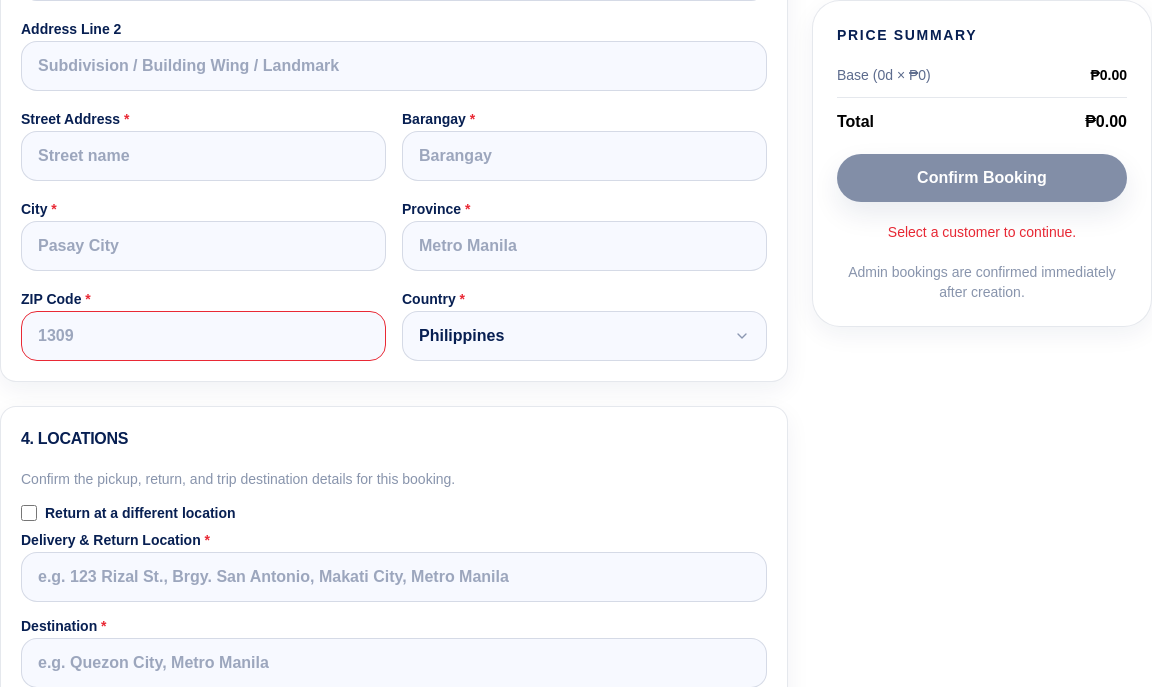
it: AdminBookingsCreate › validates self-drive address fields and uses the full country dataset
(page scrolled)
In the field labelled "ZIP Code *": (204, 336) 21,311 -> 386,361, type "123"
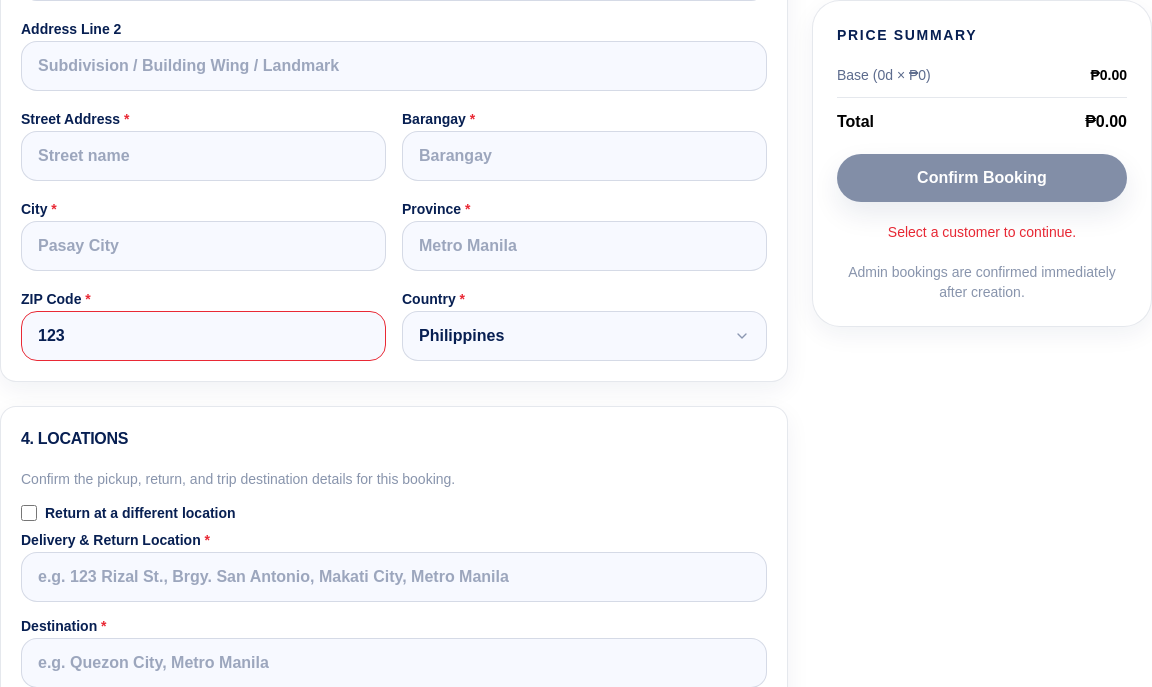
Click the button with aria-label "Country": (462, 336) 402,311 -> 767,361
(page scrolled)
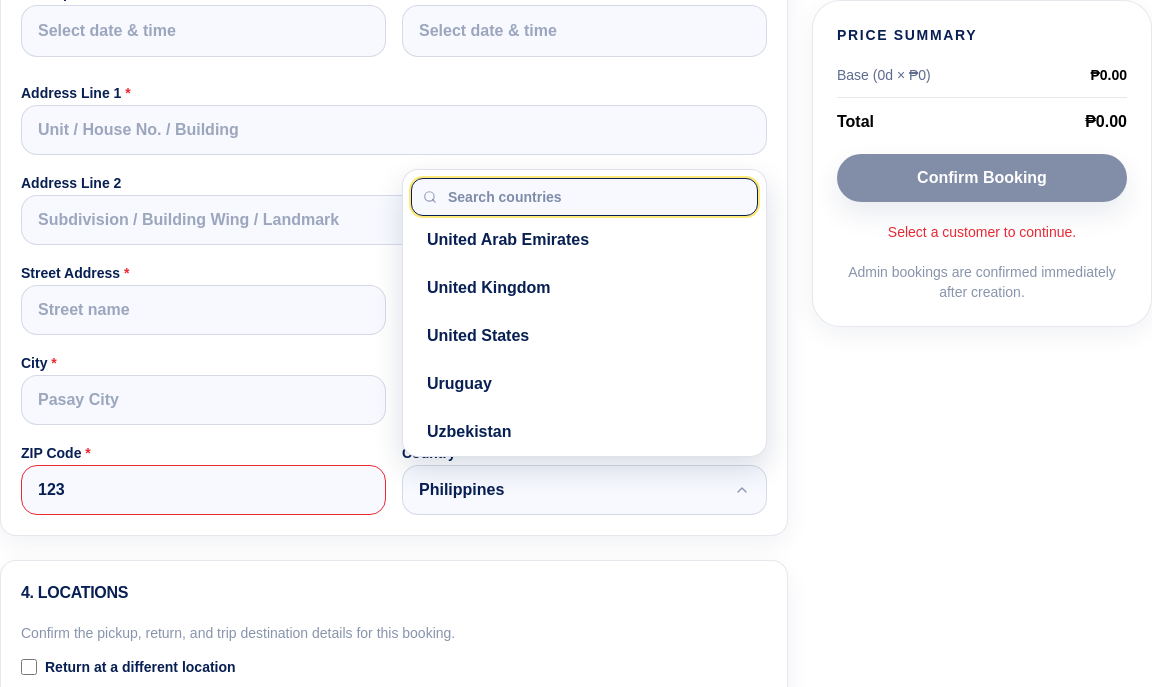
Now the option "United States" is shown, box 411,312 -> 758,360
